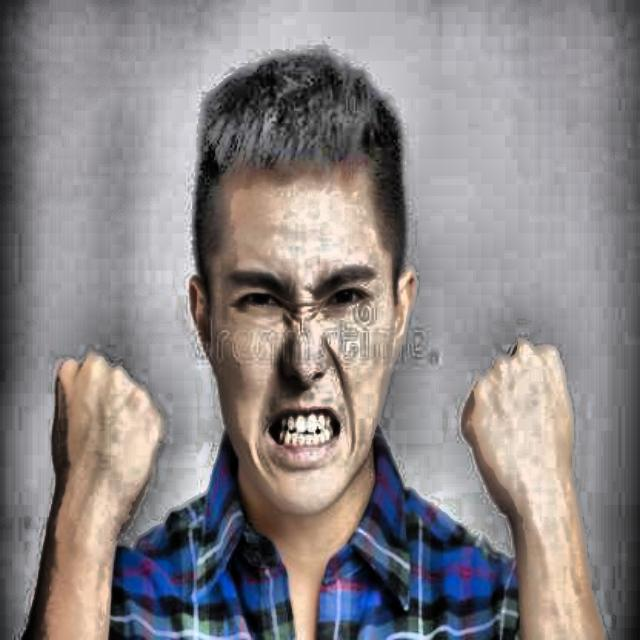angry: (195, 82, 415, 523)
